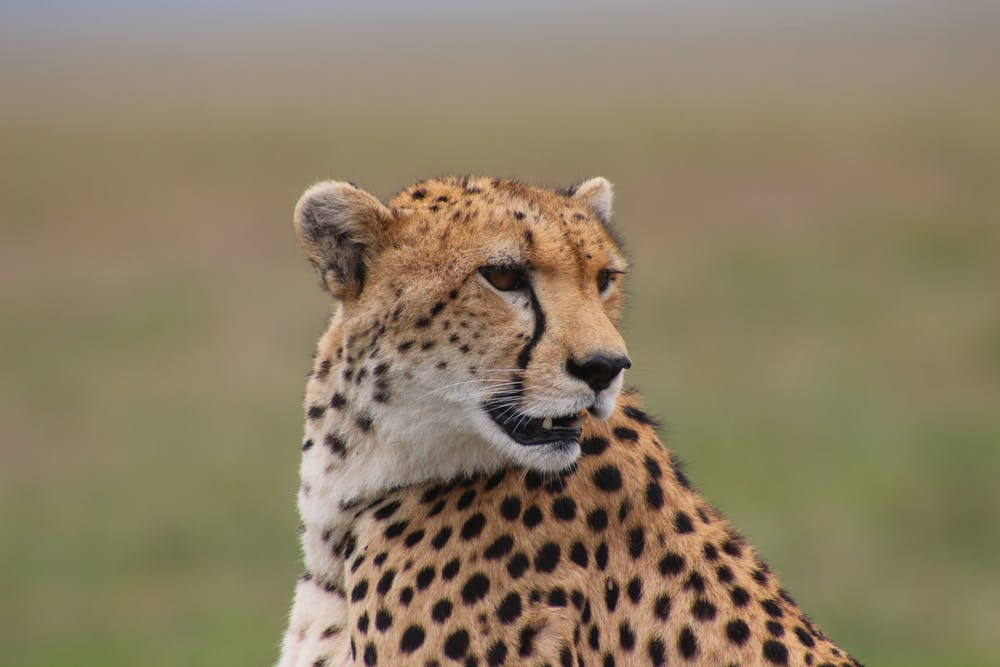cheetah: (276, 153, 680, 487)
